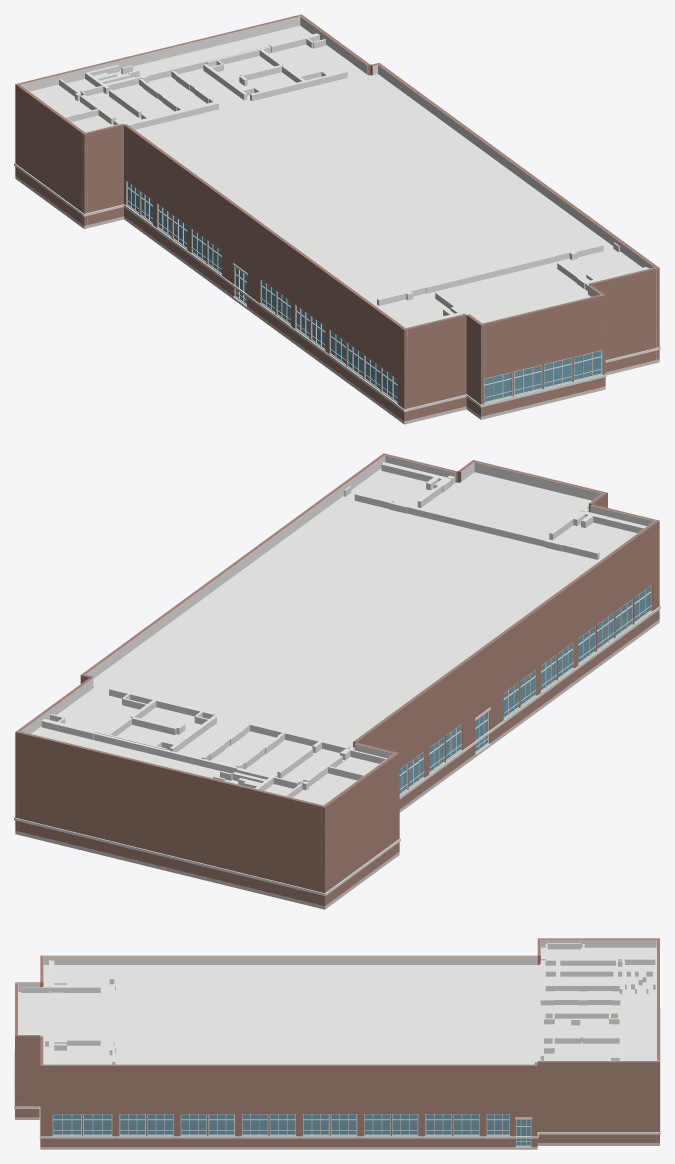
The model's file is hall_2F.glb.
3 renders of one model, top to bottom at view 1: azimuth 30°, elevation 25°; view 2: azimuth 150°, elevation 25°; view 3: azimuth 270°, elevation 25°, orthographic. The views are drawn at different scales.
Parts seen in each view (by area): view 1: hall_2F__ceil, hall_2F__brick, hall_2F__wallIn, hall_2F__glass, hall_2F__frameW, hall_2F__white, hall_2F__corrFloor; view 2: hall_2F__ceil, hall_2F__brick, hall_2F__wallIn, hall_2F__glass, hall_2F__white, hall_2F__corrFloor, hall_2F__frameW; view 3: hall_2F__ceil, hall_2F__brick, hall_2F__wallIn, hall_2F__glass, hall_2F__frameW, hall_2F__white, hall_2F__corrFloor, hall_2F__rail.
Part boxes in pixels (box(x1,y1,x2,y2)): hall_2F__ceil: box(30, 25, 642, 325); hall_2F__brick: box(15, 14, 659, 421); hall_2F__wallIn: box(20, 16, 656, 413); hall_2F__glass: box(127, 182, 600, 401); hall_2F__frameW: box(126, 181, 601, 403); hall_2F__white: box(14, 163, 660, 411); hall_2F__corrFloor: box(15, 175, 659, 424); hall_2F__ceil: box(31, 468, 636, 805); hall_2F__brick: box(15, 453, 659, 905); hall_2F__wallIn: box(18, 455, 655, 866); hall_2F__glass: box(399, 586, 650, 793); hall_2F__white: box(14, 606, 660, 896); hall_2F__corrFloor: box(15, 619, 659, 909); hall_2F__frameW: box(399, 585, 651, 795); hall_2F__ceil: box(18, 947, 656, 1064); hall_2F__brick: box(15, 938, 659, 1146); hall_2F__wallIn: box(15, 939, 659, 1142); hall_2F__glass: box(53, 1114, 530, 1145); hall_2F__frameW: box(52, 1114, 531, 1146); hall_2F__white: box(14, 1008, 660, 1147); hall_2F__corrFloor: box(15, 1117, 659, 1149); hall_2F__rail: box(14, 1049, 530, 1141).
Bounding box in the file's own units: 23.84 × 7.25 × 50.74.
